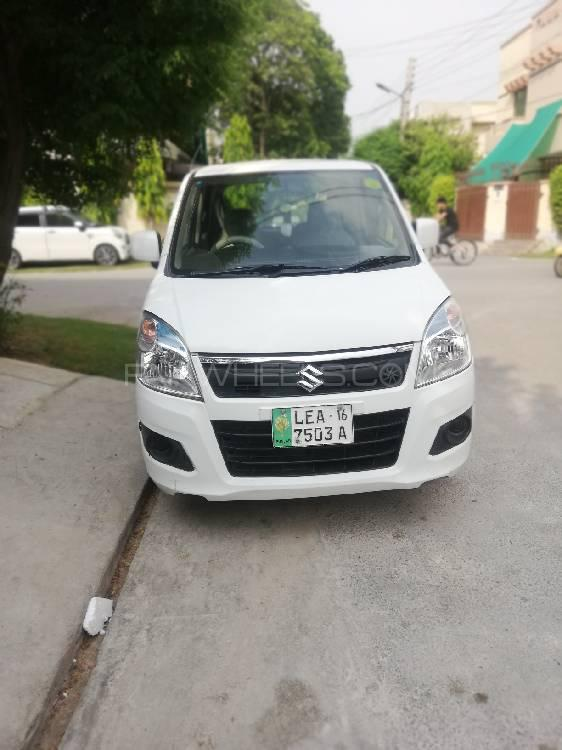license plate: (273, 409, 354, 444)
